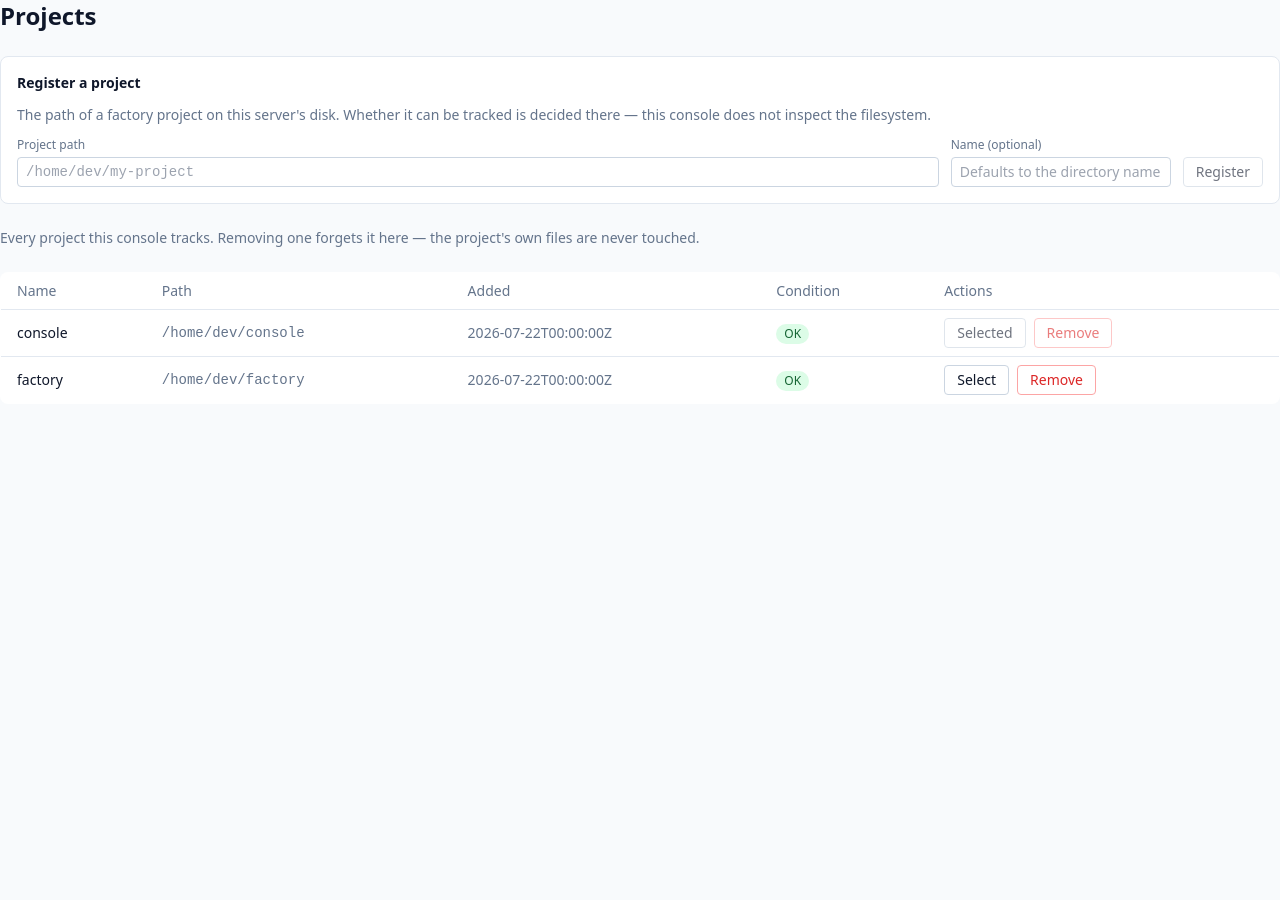
it: projects page › removes nothing when the confirmation is cancelled
What coordinates should you click on to do the following:
click the button "Remove" in the row of "/home/dev/factory"
I would click on:
 (1057, 380)
Its box is [1017, 365, 1096, 395].
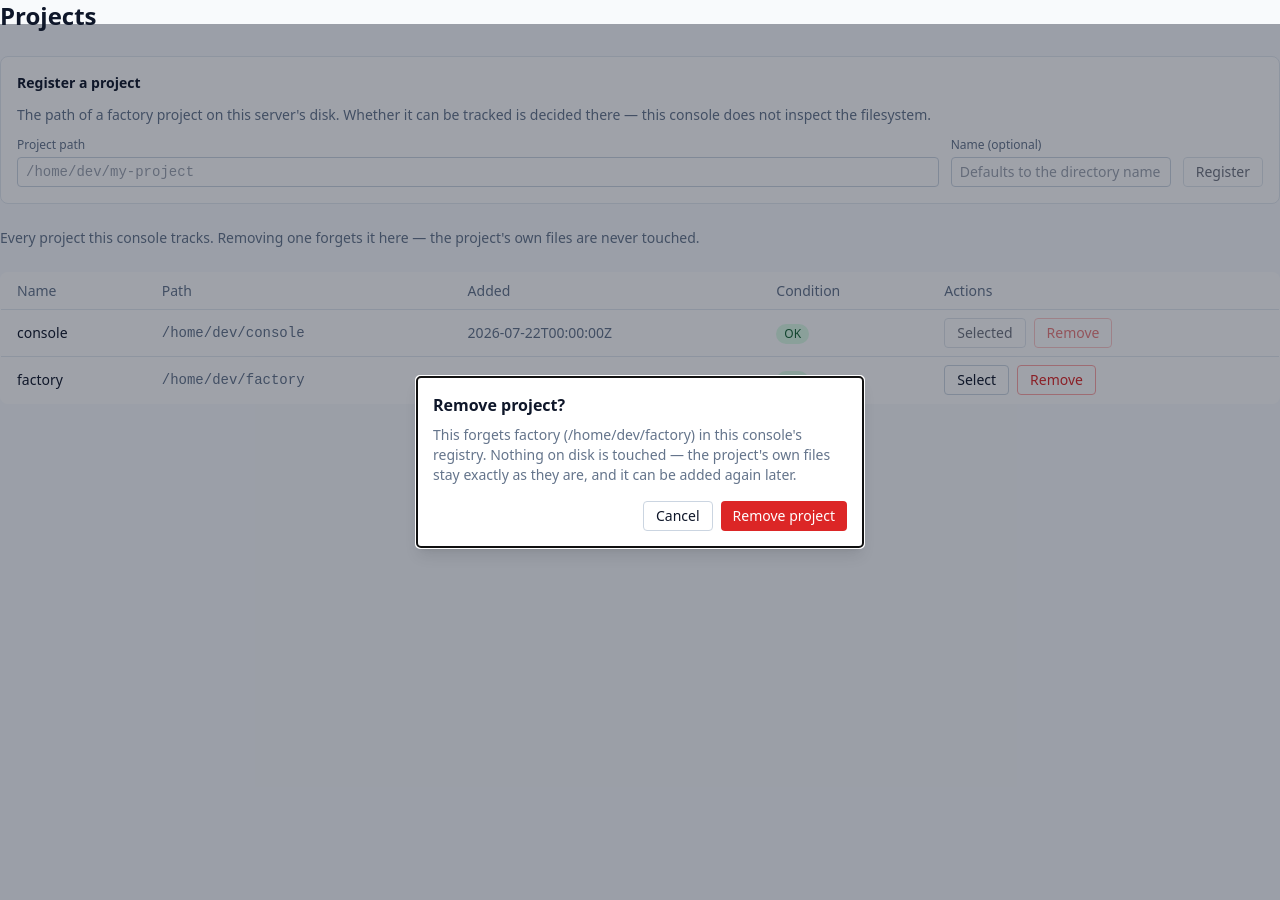
What coordinates should you click on to do the following:
click the button "Cancel"
I would click on:
 (678, 516)
Its box is [643, 501, 713, 531].
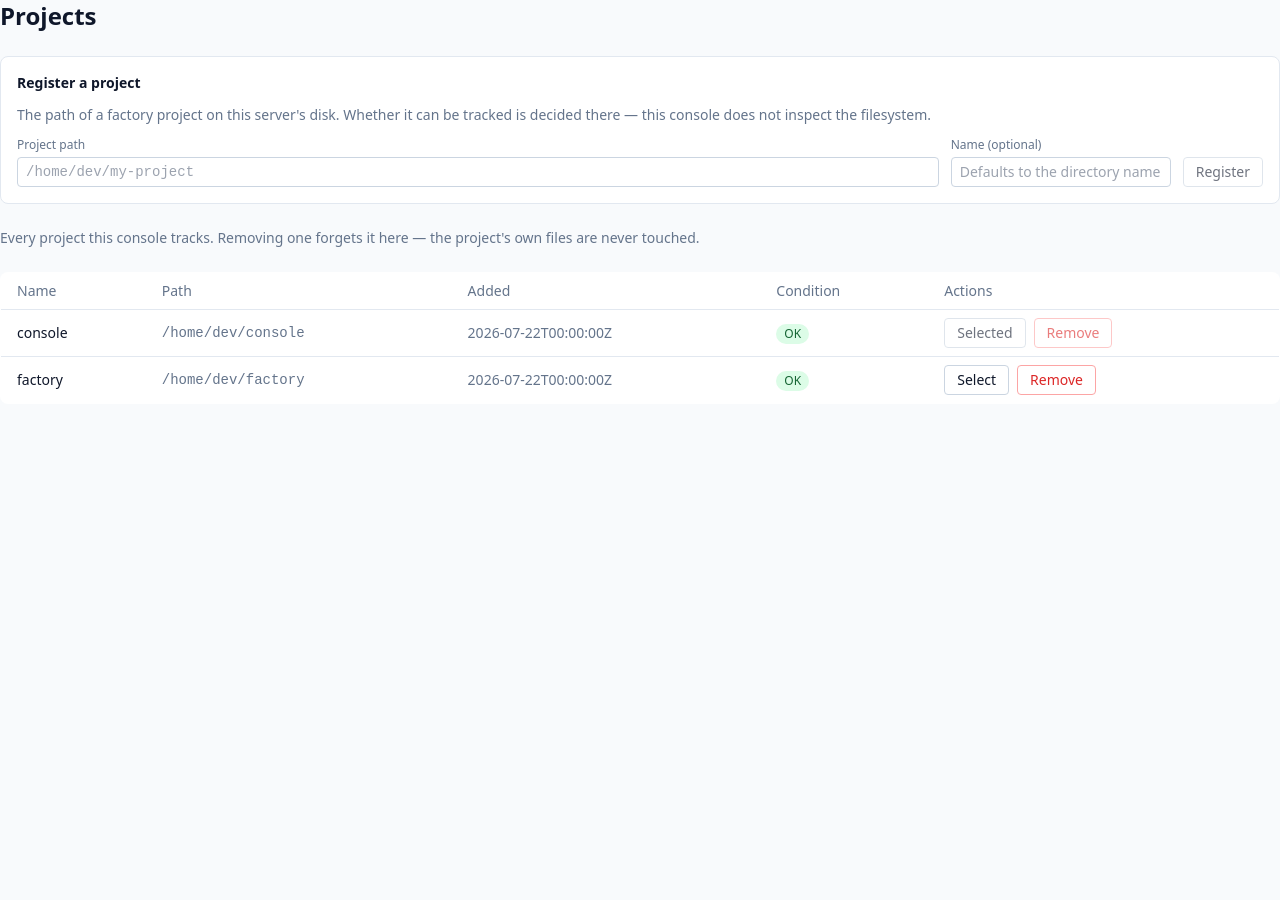
Now the heading "Remove project?" is gone
